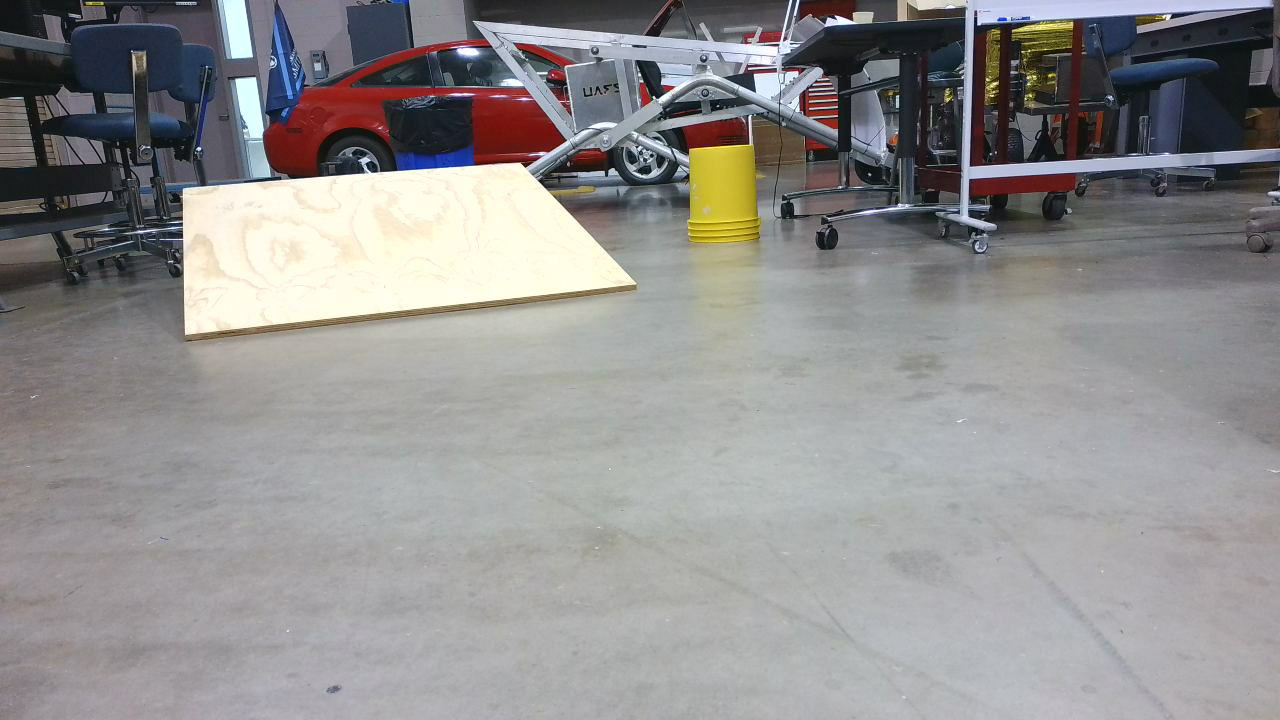concrete_block: (184, 164, 645, 345)
yellow_bucket: (690, 147, 766, 248)
